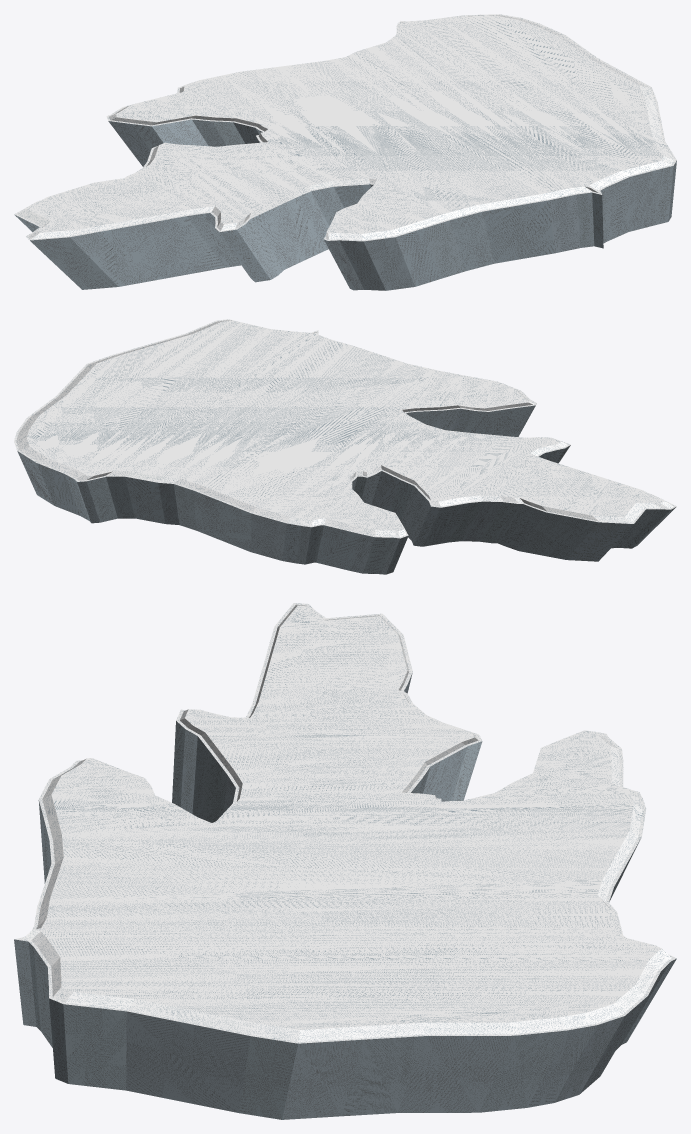
File: Rock_Shelf_Snow_01.fbx
The picture shows the model from 3 angles, top to bottom: view 1: azimuth 30°, elevation 25°; view 2: azimuth 150°, elevation 25°; view 3: azimuth 270°, elevation 25°; orthographic projection. The views are drawn at different scales.
Parts seen in each view (by area): view 1: Model; view 2: Model; view 3: Model.
Boxes of the visible parts, x1,y1,x2,y2 form: Model: [14, 14, 676, 290]; Model: [14, 319, 676, 574]; Model: [14, 603, 676, 1119].
Size of the model in its own units: 20153 by 1875 by 12814.
